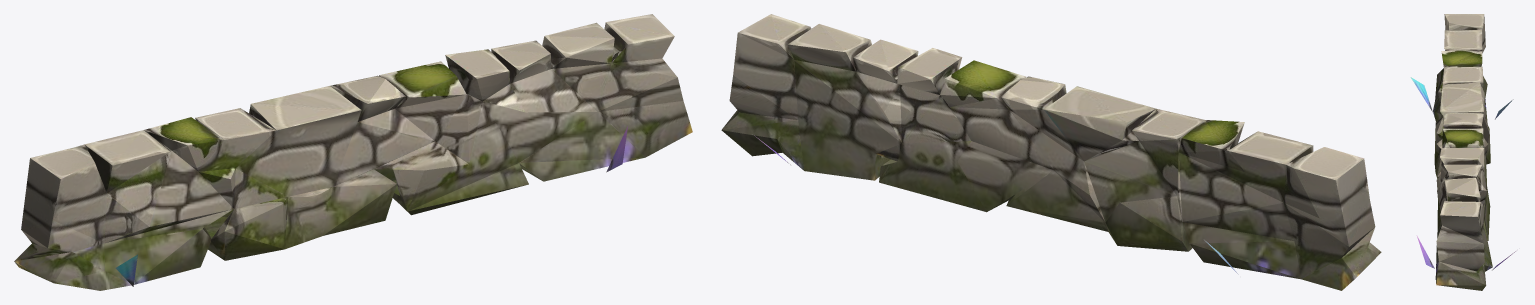
The model's file is mu-muret-semis.glb.
The picture shows the model from 3 angles, left to right: view 1: azimuth 30°, elevation 25°; view 2: azimuth 150°, elevation 25°; view 3: azimuth 270°, elevation 25°; orthographic projection. The views are drawn at different scales.
Parts seen in each view (by area): view 1: mu-muret-semis; view 2: mu-muret-semis; view 3: mu-muret-semis.
Part boxes in pixels (x1=…): mu-muret-semis: x1=14, y1=14, x2=692, y2=290; mu-muret-semis: x1=721, y1=14, x2=1381, y2=290; mu-muret-semis: x1=1410, y1=14, x2=1515, y2=290.
Bounding box in the file's own units: 1.96 × 0.3785 × 0.4346.
Materials: 1 (1 with a texture image).
